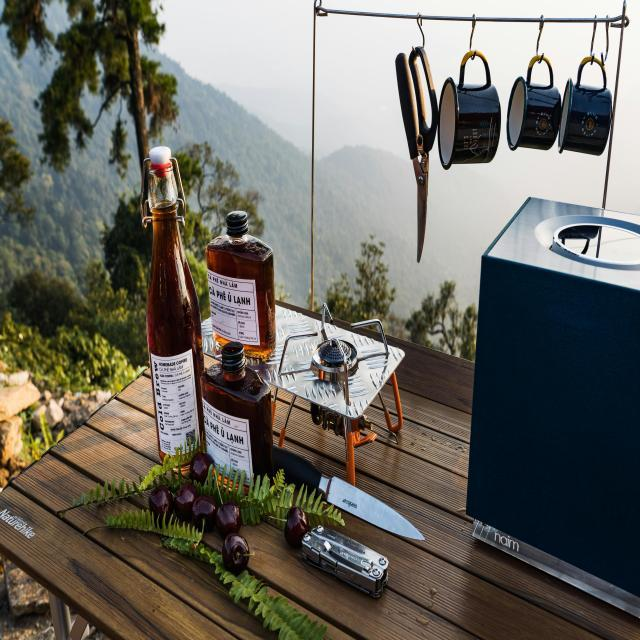Knife: (272, 447, 425, 539)
